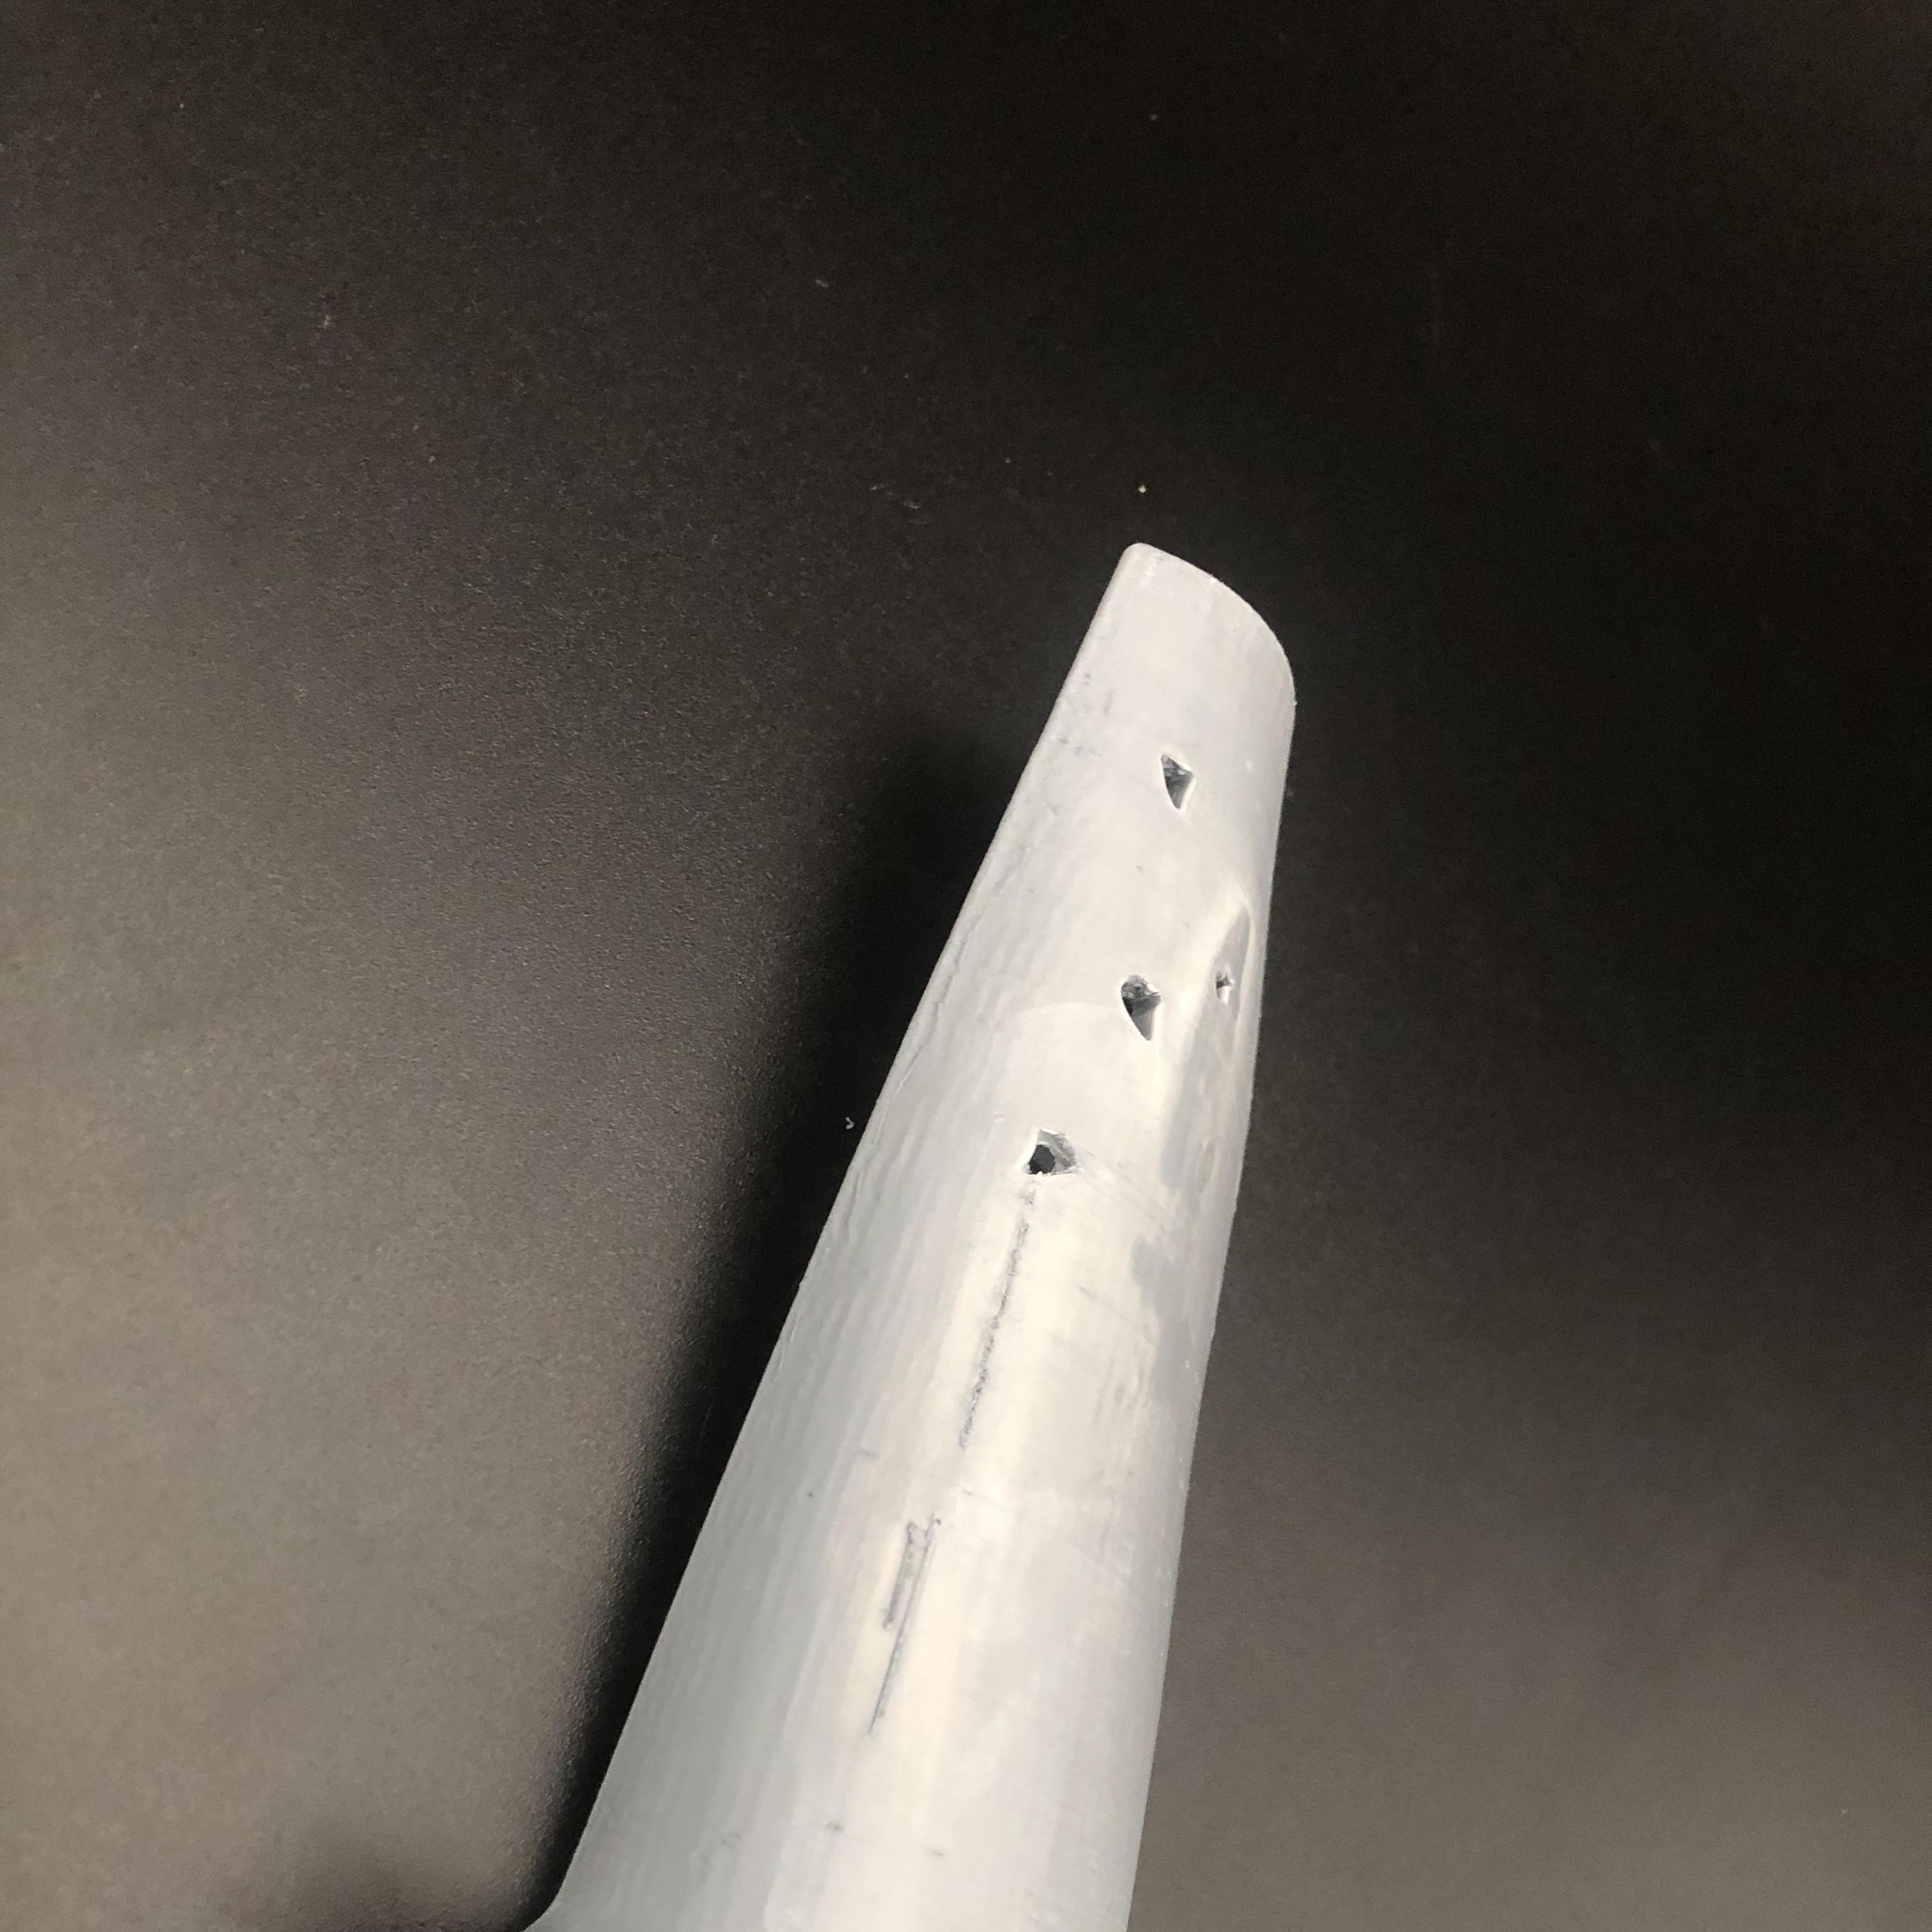breakdown: (1035, 740, 1254, 1221)
